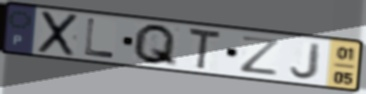J: (288, 41, 324, 81)
L: (83, 17, 117, 60)
Q: (130, 23, 179, 69)
T: (186, 26, 223, 73)
X: (36, 9, 81, 58)
Z: (239, 35, 284, 78)
